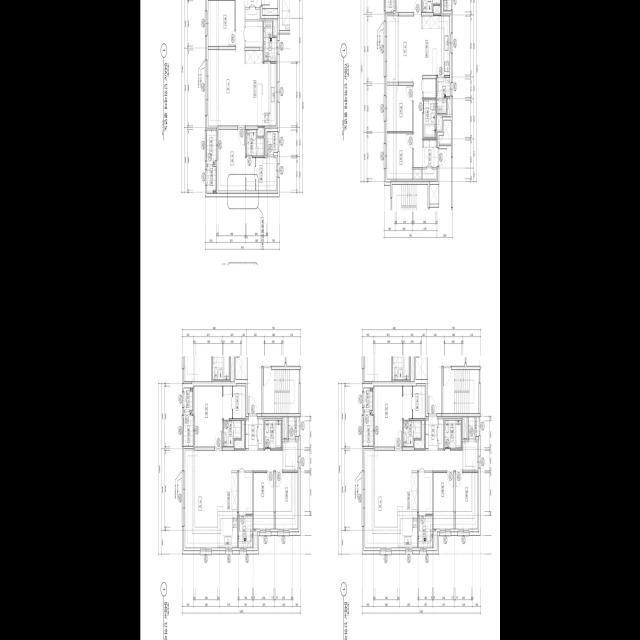background: (140, 0, 500, 640)
space_balconi: (263, 21, 276, 61), (436, 77, 449, 113), (418, 516, 432, 548), (238, 516, 252, 548), (206, 130, 216, 165), (363, 412, 373, 446), (183, 412, 193, 446), (385, 0, 394, 12)
space_bedroom: (374, 386, 402, 447), (194, 386, 222, 447), (218, 129, 245, 191), (455, 473, 477, 529), (275, 473, 297, 529), (208, 0, 234, 46), (433, 473, 454, 529), (253, 473, 274, 529), (387, 85, 412, 131), (387, 133, 412, 179), (396, 0, 421, 12)
space_dressroom: (246, 158, 276, 191), (403, 386, 425, 419), (223, 386, 245, 419)
space_front: (422, 140, 438, 167), (425, 415, 437, 450), (245, 415, 257, 450), (245, 0, 261, 7)
space_kitchen: (245, 51, 276, 126), (422, 16, 449, 76), (397, 471, 417, 548), (217, 471, 237, 548)
space_living_room: (365, 442, 477, 548), (185, 442, 297, 548), (387, 16, 422, 167), (208, 0, 245, 126)
space_other: (418, 473, 432, 514), (238, 473, 252, 514), (245, 21, 262, 47), (439, 120, 451, 144), (414, 421, 424, 448), (234, 421, 244, 448), (423, 79, 436, 98), (468, 417, 479, 439), (288, 417, 299, 439), (267, 131, 277, 155), (258, 419, 264, 449), (429, 185, 438, 204), (438, 419, 443, 449), (245, 9, 260, 19), (422, 169, 436, 179), (262, 9, 277, 15), (463, 417, 467, 438), (283, 417, 287, 438), (443, 0, 451, 10), (413, 169, 421, 179), (436, 115, 441, 130), (433, 6, 440, 14), (257, 128, 264, 136), (433, 531, 436, 548), (447, 98, 450, 115), (253, 531, 256, 548), (273, 21, 276, 36)
space_outdoor_room: (206, 167, 216, 193), (363, 388, 372, 410), (183, 388, 192, 410)
space_staircase: (263, 370, 299, 413), (443, 370, 479, 413)
space_toilet: (423, 100, 436, 138), (246, 129, 264, 156), (264, 420, 281, 448), (444, 420, 461, 448), (403, 421, 421, 447), (223, 421, 241, 447), (422, 0, 440, 12)
